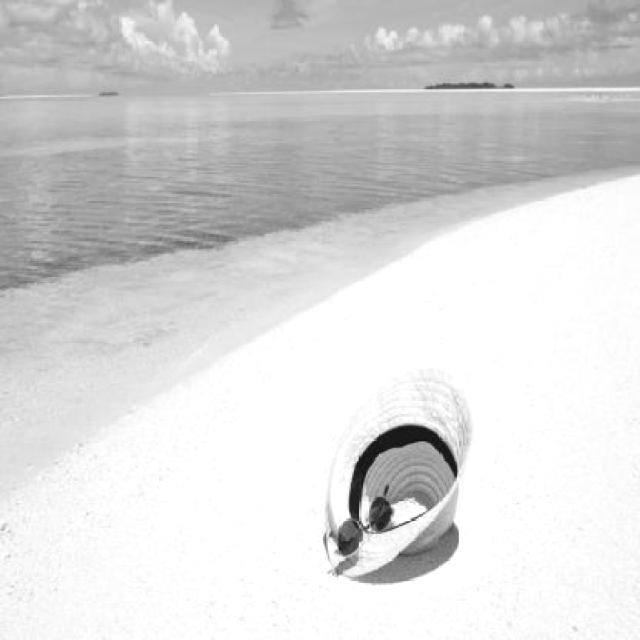glasses: (327, 480, 398, 574)
